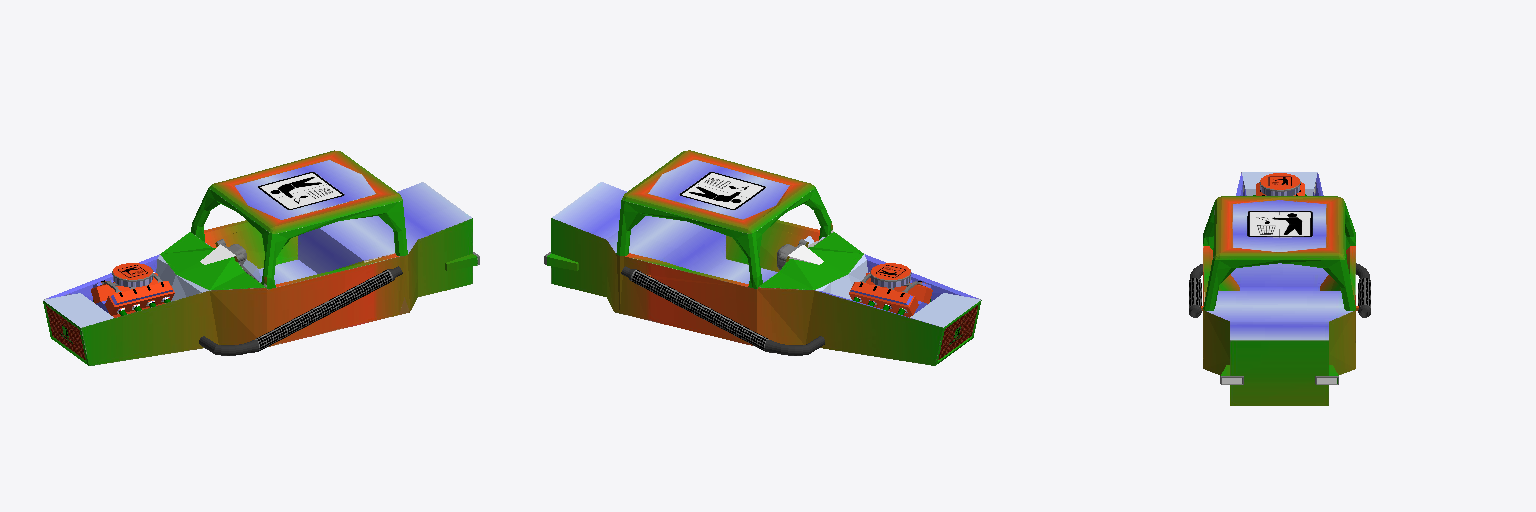
3 views of the same model, side by side, from view 1: azimuth 30°, elevation 25°; view 2: azimuth 150°, elevation 25°; view 3: azimuth 270°, elevation 25° (orthographic).
Parts seen in each view (by area): view 1: cylinder2_sep3; view 2: cylinder2_sep3; view 3: cylinder2_sep3.
Boxes of the visible parts, <box> form: cylinder2_sep3: <box>43,150,479,365</box>; cylinder2_sep3: <box>544,150,981,365</box>; cylinder2_sep3: <box>1189,172,1370,405</box>.
Size of the model in its own units: 3.53 by 0.98 by 1.44.
6 materials, 2 textured.